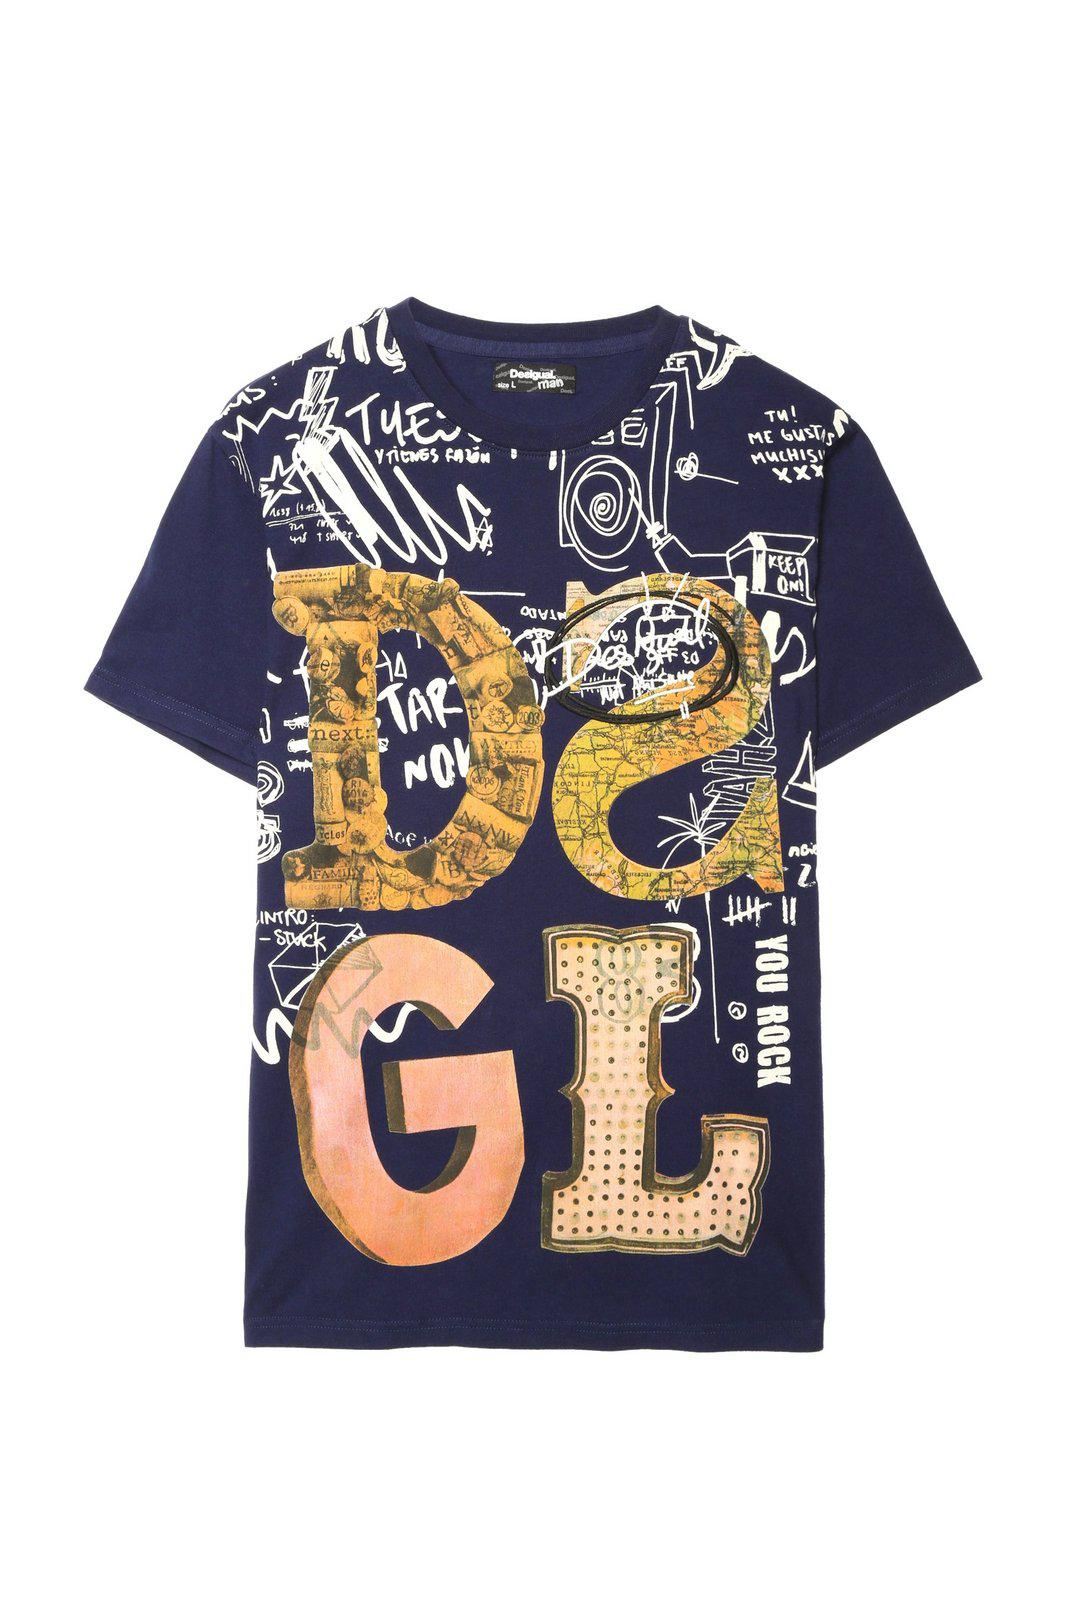teeshirt: (8, 8, 1072, 1612)
